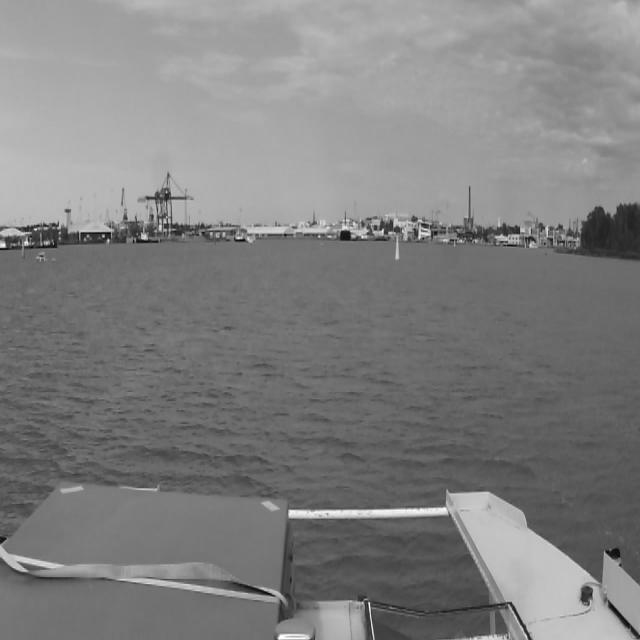buoy: (395, 234, 401, 260), (21, 237, 25, 260)
ship: (342, 210, 351, 242), (37, 253, 47, 263)
